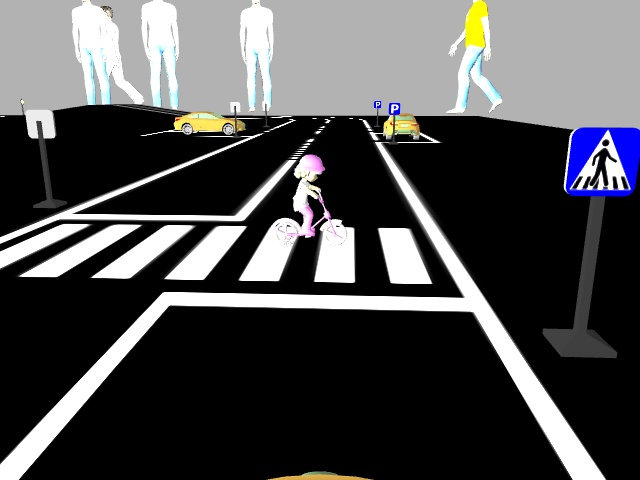Crosswalk: (565, 125, 635, 198)
Parking: (388, 100, 402, 115)
Pedestrian: (268, 152, 355, 250)
